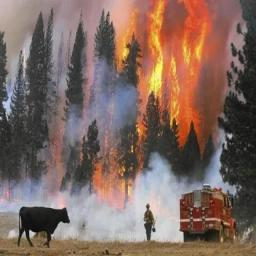Heavy smoke: (0, 155, 244, 250)
Large fire: (0, 0, 243, 205)
